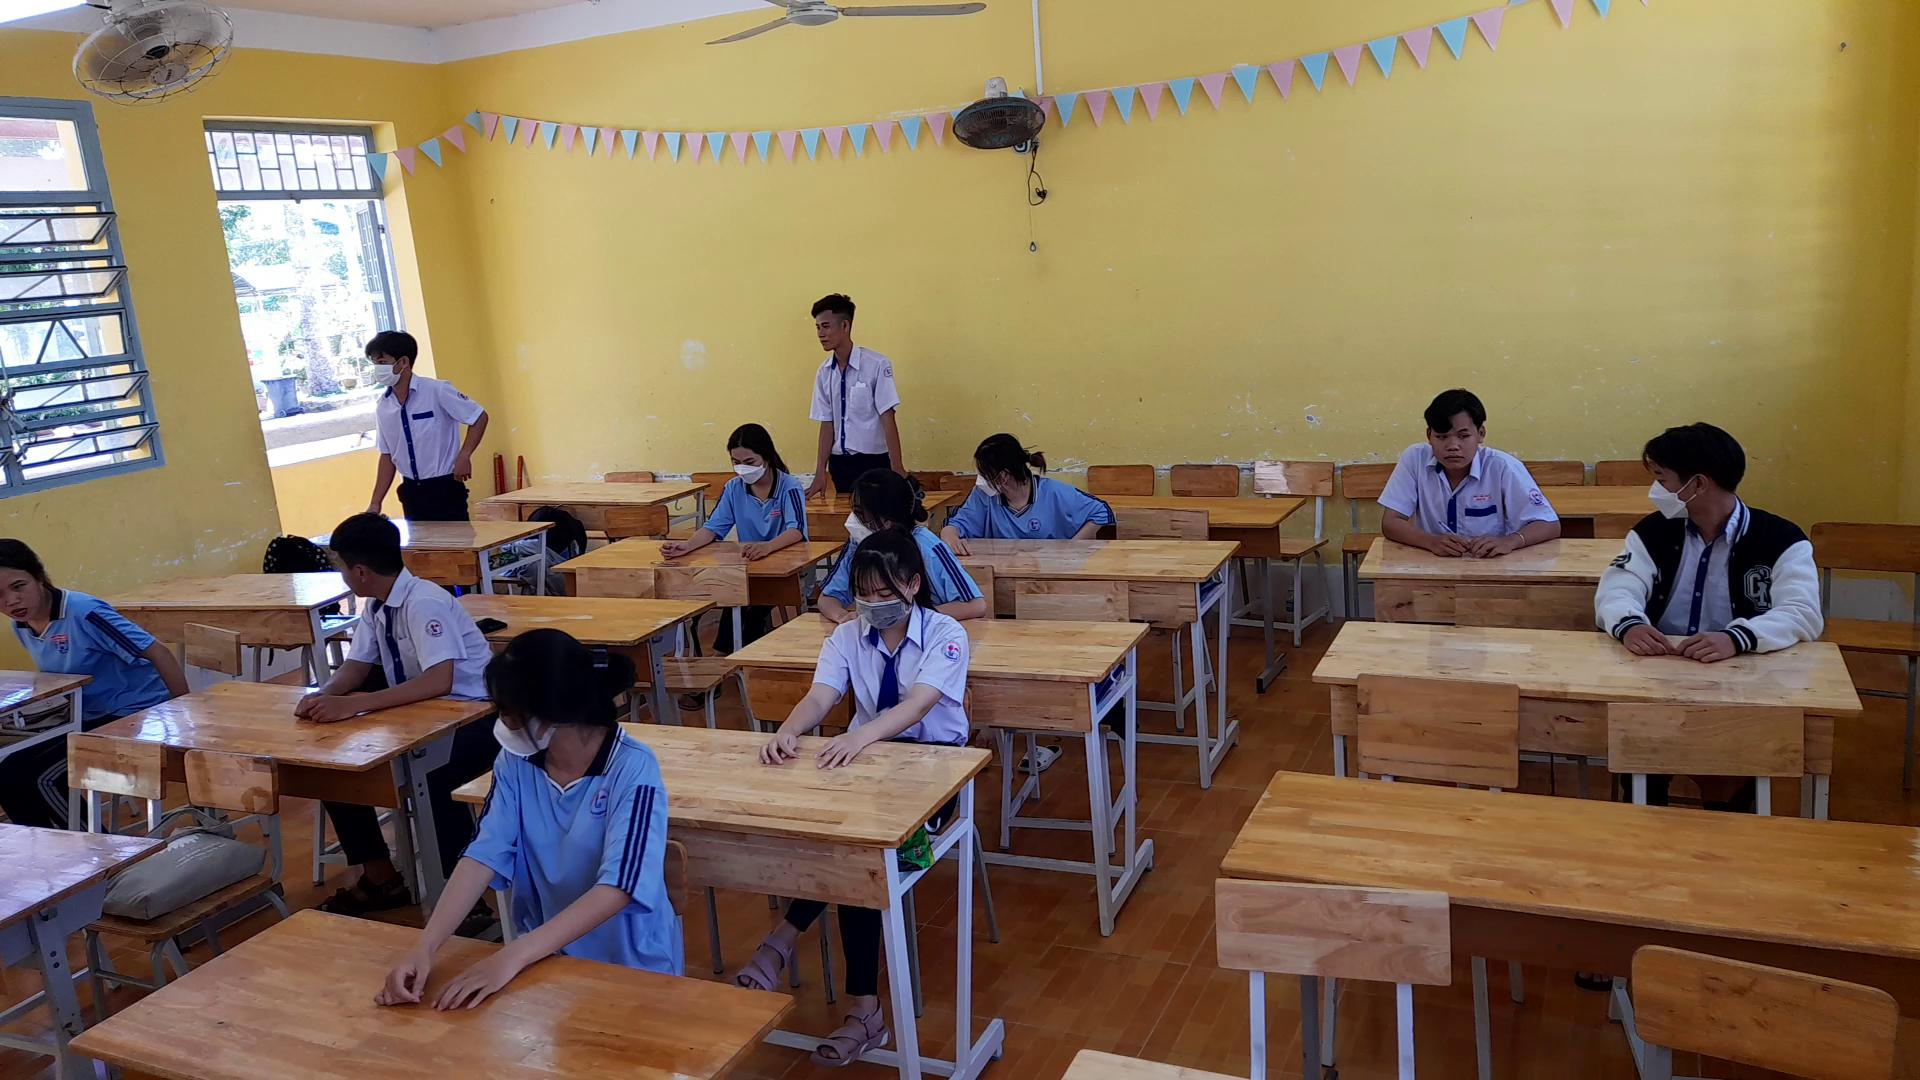Look Around: (475, 632, 638, 764), (1623, 411, 1758, 531), (314, 505, 422, 612), (957, 422, 1048, 504)
Normal: (746, 530, 964, 775), (1367, 380, 1575, 558), (657, 415, 812, 564)
Stand Up: (349, 324, 489, 525), (786, 281, 909, 464)
